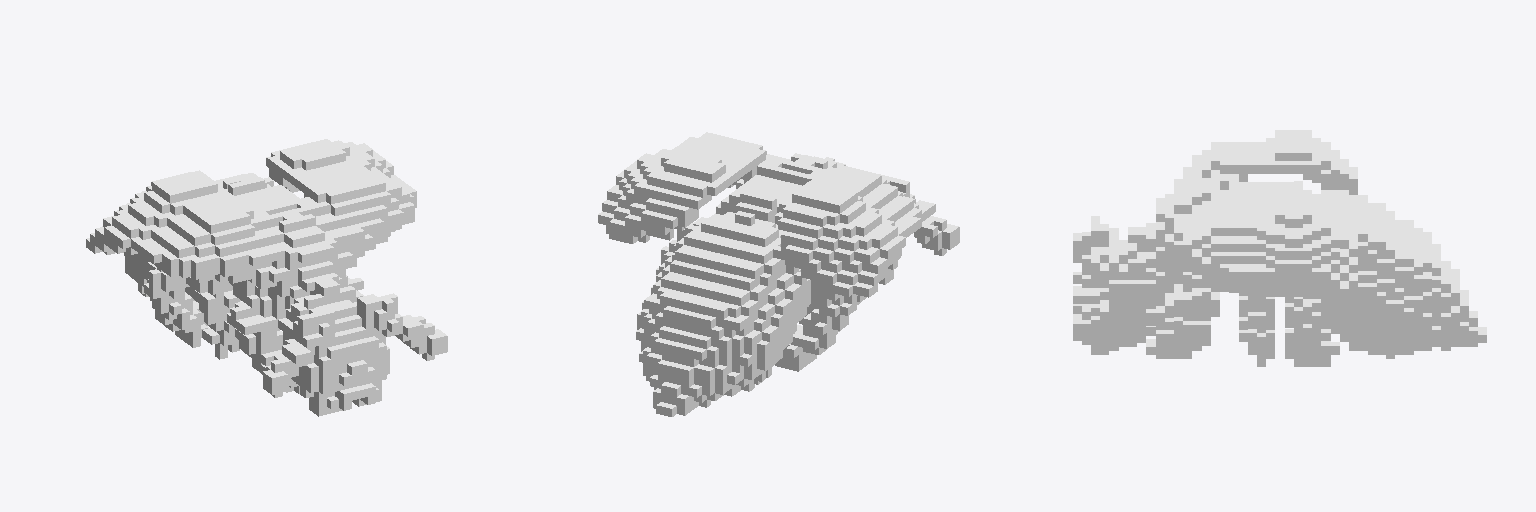
The model's file is wasp_dead_v1-3.obj.
3 views of the same model, side by side, from view 1: azimuth 30°, elevation 25°; view 2: azimuth 150°, elevation 25°; view 3: azimuth 270°, elevation 25° (orthographic).
Visible parts, largest first — view 1: object 1; view 2: object 1; view 3: object 1.
Part boxes in pixels (left/top/right/bottom): object 1: left=86, top=139, right=447, bottom=416; object 1: left=598, top=132, right=959, bottom=416; object 1: left=1073, top=130, right=1486, bottom=366.
Bounding box in the file's own units: 3.4 × 2 × 4.5.